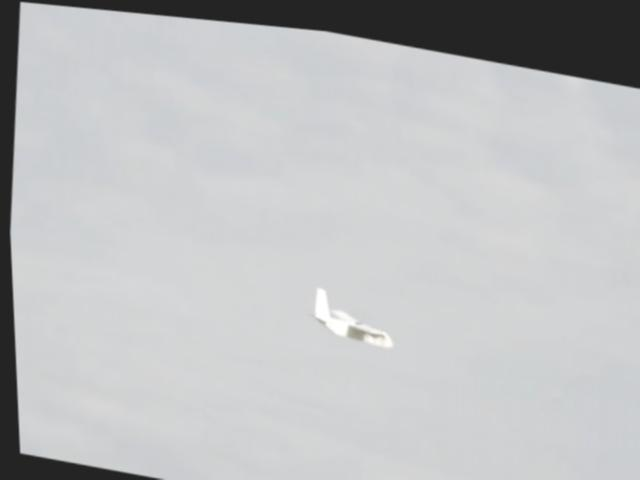uav: (304, 277, 397, 343)
